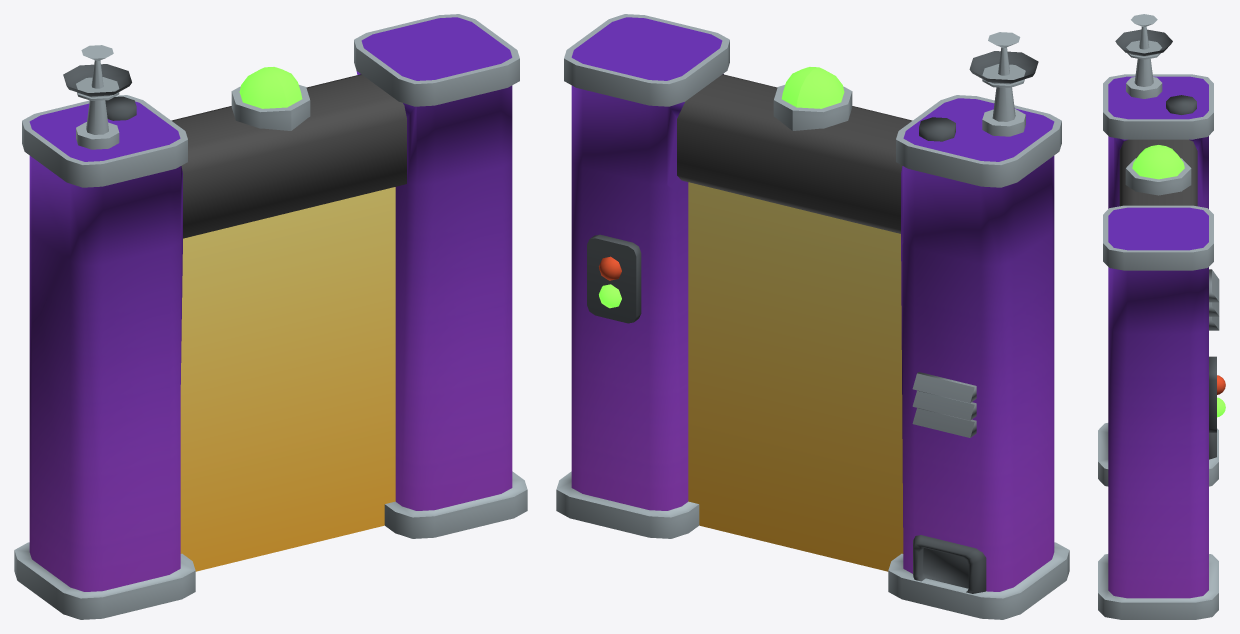
The model's file is DoorSwitch.glb.
3 views of the same model, side by side, from view 1: azimuth 30°, elevation 25°; view 2: azimuth 150°, elevation 25°; view 3: azimuth 270°, elevation 25° (orthographic). The views are drawn at different scales.
Visible parts, largest first — view 1: DoorSwitch_Frame, DoorSwitch_Opening; view 2: DoorSwitch_Frame, DoorSwitch_Opening; view 3: DoorSwitch_Frame.
Part boxes in pixels (x1=…): DoorSwitch_Frame: x1=14, y1=14, x2=527, y2=619; DoorSwitch_Opening: x1=180, y1=187, x2=395, y2=571; DoorSwitch_Frame: x1=556, y1=14, x2=1069, y2=619; DoorSwitch_Opening: x1=688, y1=182, x2=903, y2=571; DoorSwitch_Frame: x1=1098, y1=14, x2=1225, y2=619.
Size of the model in its own units: 5.56 by 6.22 by 1.65.
2 materials, 1 textured.
